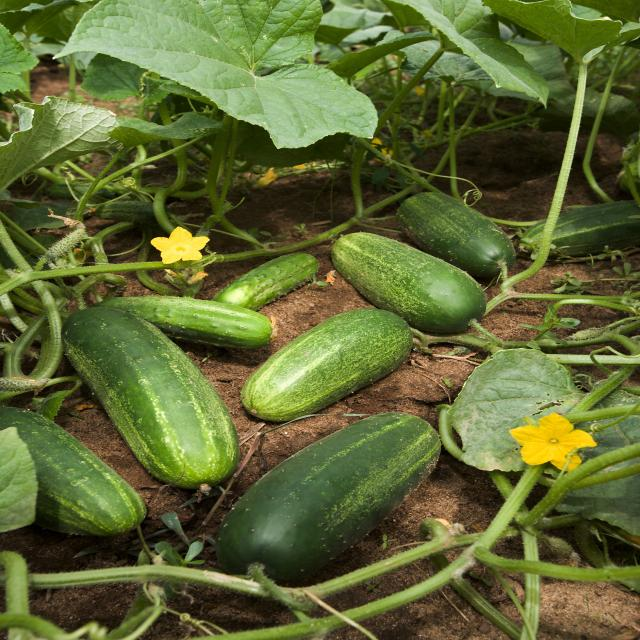Pickle: (215, 412, 440, 582), (63, 308, 239, 489), (240, 309, 413, 421), (0, 408, 145, 536), (332, 232, 486, 332), (397, 192, 515, 278), (97, 296, 276, 349), (214, 252, 319, 311), (551, 200, 640, 256), (520, 220, 545, 259)
